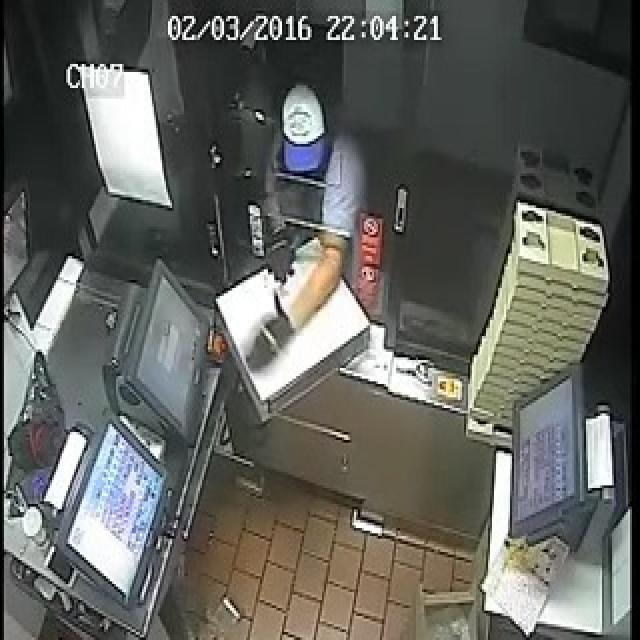thief: (238, 76, 395, 292)
